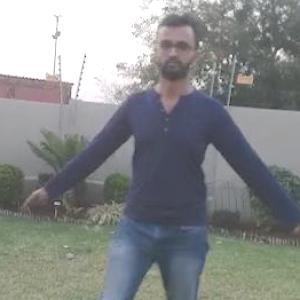land: (63, 53, 299, 299)
